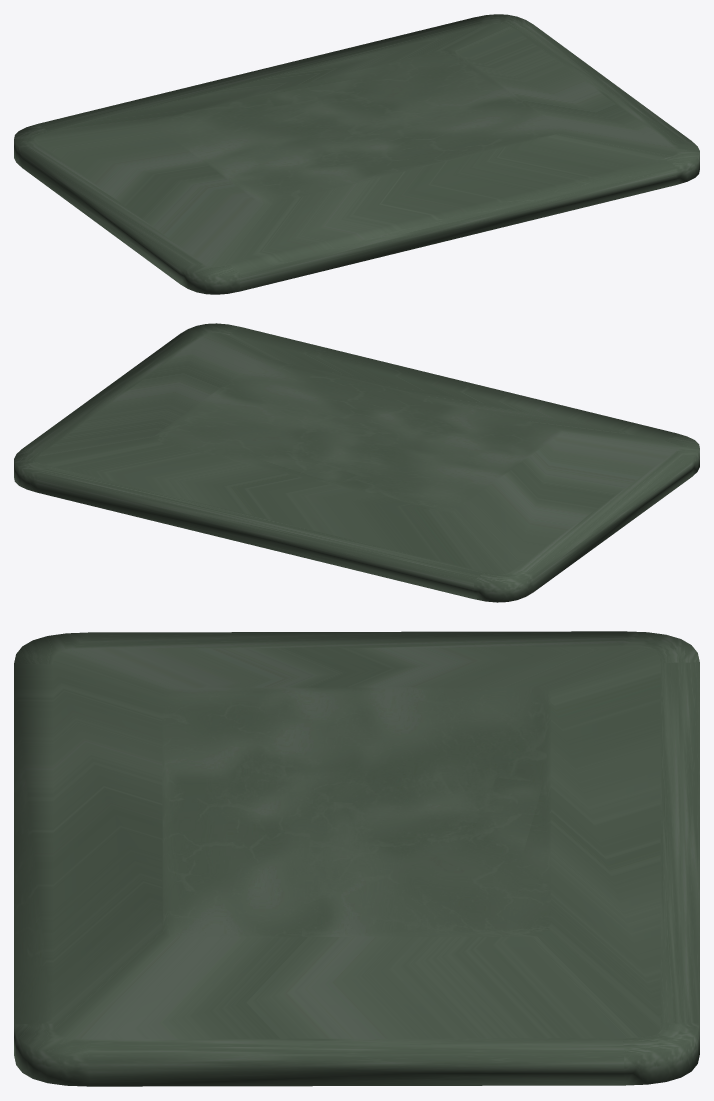
Rendered from wheelieLID.obj.
3 views of the same model, one above another, from view 1: azimuth 30°, elevation 25°; view 2: azimuth 150°, elevation 25°; view 3: azimuth 270°, elevation 25° (orthographic). The views are drawn at different scales.
Parts seen in each view (by area): view 1: bibnlid; view 2: bibnlid; view 3: bibnlid.
Part boxes in pixels (bbox=[...]): bibnlid: bbox=[14, 14, 699, 294]; bibnlid: bbox=[14, 323, 699, 602]; bibnlid: bbox=[14, 631, 699, 1086].
Bounding box in the file's own units: 81.7 × 5.73 × 56.03.
Materials: 1 (1 with a texture image).
